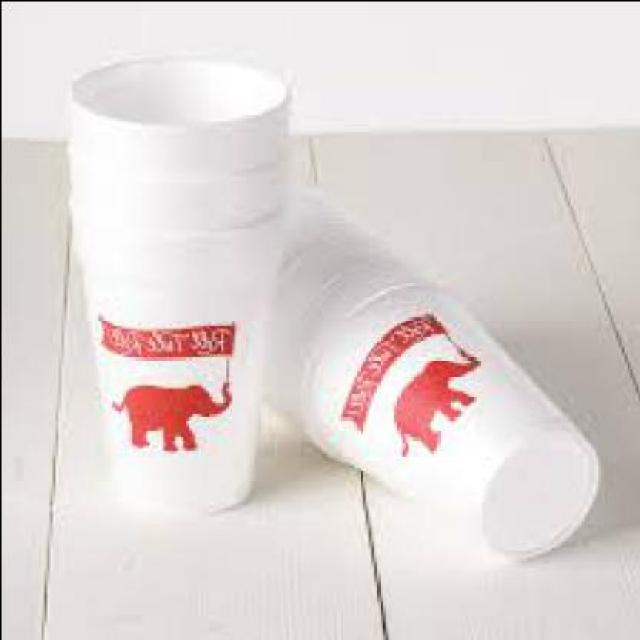PAPER: (69, 51, 293, 509), (296, 256, 606, 546), (265, 176, 401, 416)
